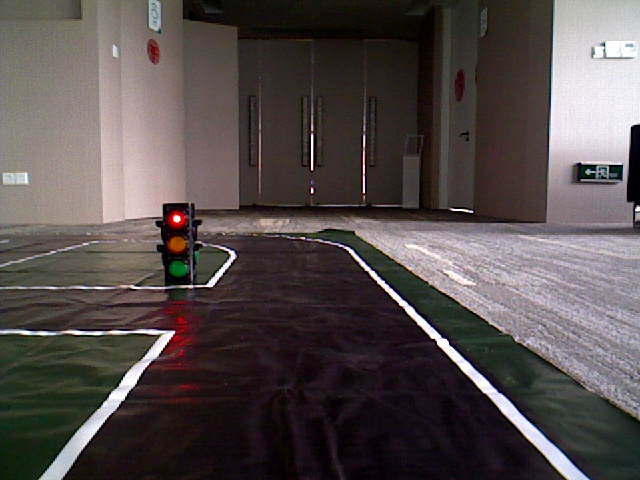red: (161, 209, 190, 279)
